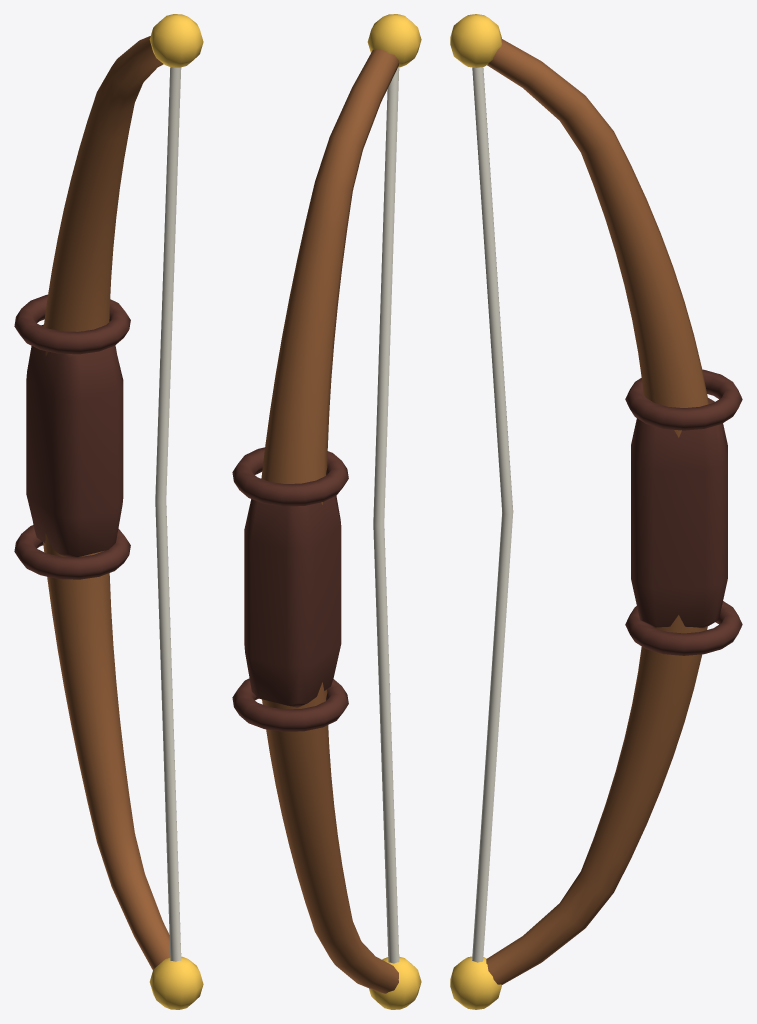
Rendered from AmbushBow.obj.
The picture shows the model from 3 angles, left to right: view 1: azimuth 30°, elevation 25°; view 2: azimuth 150°, elevation 25°; view 3: azimuth 270°, elevation 25°; orthographic projection.
Visible parts, largest first — view 1: Limbs, Grip, String, Tips; view 2: Limbs, Grip, String, Tips; view 3: Limbs, Grip, String, Tips.
Part boxes in pixels (x1,y1,x2,y2): Limbs: (43, 36, 170, 969); Grip: (14, 294, 130, 579); String: (155, 67, 181, 961); Tips: (149, 14, 203, 1009); Limbs: (261, 49, 398, 993); Grip: (232, 447, 348, 731); String: (373, 67, 399, 963); Tips: (367, 14, 421, 1009); Limbs: (486, 39, 708, 984); Grip: (625, 369, 742, 655); String: (472, 67, 513, 962); Tips: (450, 14, 501, 1009).
Size of the model in its own units: 0.52 by 4.84 by 1.29.
